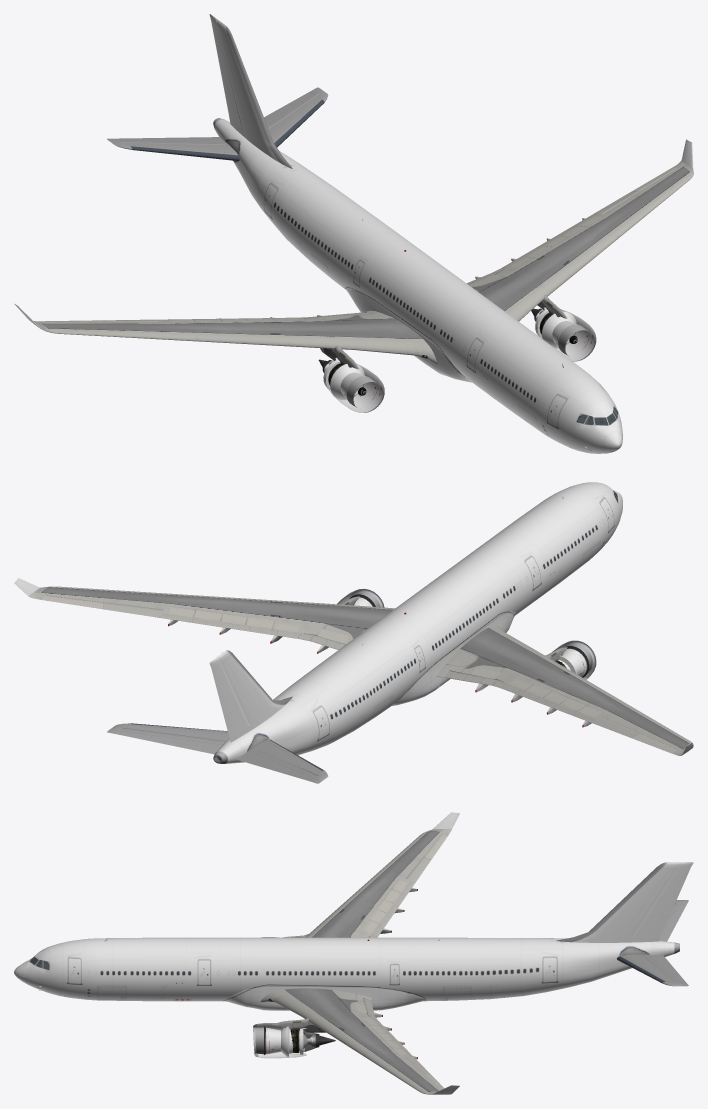
3 renders of one model, top to bottom at view 1: azimuth 30°, elevation 25°; view 2: azimuth 150°, elevation 25°; view 3: azimuth 270°, elevation 25°, orthographic. The views are drawn at different scales.
Parts seen in each view (by area): view 1: fuselage.003, cylinder, vstab, cylinder.003, hstab, wing.in1, ge.nacelle1, cylinder.001, ge.nacelle0, cylinder.002, slat.out1.001, bellyfairing.001 (+6 smaller); view 2: fuselage.003, cylinder, cylinder.003, wing.in1, vstab, hstab, cylinder.001, cylinder.002, rudder, wing.in0, bellyfairing.001, elevator0 (+4 smaller); view 3: fuselage.003, vstab, cylinder.003, bellyfairing.001, cylinder, rudder, wing.in0, cylinder.002, cylinder.001, ge.nacelle0, hstab, slat.out0 (+1 smaller).
Part boxes in pixels (x1,y1,x2,y2): fuselage.003: [213, 118, 622, 453]; cylinder: [503, 213, 618, 301]; vstab: [216, 19, 292, 168]; cylinder.003: [161, 319, 347, 349]; hstab: [107, 87, 328, 161]; wing.in1: [321, 310, 437, 364]; ge.nacelle1: [330, 364, 384, 412]; cylinder.001: [595, 160, 693, 226]; ge.nacelle0: [541, 311, 595, 361]; cylinder.002: [34, 319, 182, 333]; slat.out1.001: [183, 333, 329, 348]; bellyfairing.001: [346, 289, 471, 382]; fuselage.003: [213, 482, 622, 763]; cylinder: [159, 595, 346, 628]; cylinder.003: [503, 651, 618, 723]; wing.in1: [436, 625, 533, 677]; vstab: [217, 650, 292, 742]; hstab: [107, 723, 327, 783]; cylinder.001: [28, 586, 182, 617]; cylinder.002: [595, 701, 693, 755]; rudder: [209, 657, 249, 739]; wing.in0: [320, 605, 393, 637]; bellyfairing.001: [392, 611, 515, 705]; elevator0: [114, 728, 225, 754]; fuselage.003: [27, 937, 679, 1001]; vstab: [556, 862, 680, 942]; cylinder.003: [307, 878, 415, 937]; bellyfairing.001: [223, 987, 424, 1010]; cylinder: [304, 1009, 414, 1058]; rudder: [632, 862, 693, 938]; wing.in0: [260, 988, 371, 1011]; cylinder.002: [375, 829, 451, 882]; cylinder.001: [375, 1054, 451, 1094]; ge.nacelle0: [256, 1023, 288, 1058]; hstab: [617, 900, 688, 986]; slat.out0: [311, 1017, 374, 1058].
Bounding box in the file's own units: 59.91 × 15.52 × 63.05.
19 materials, 15 textured.
